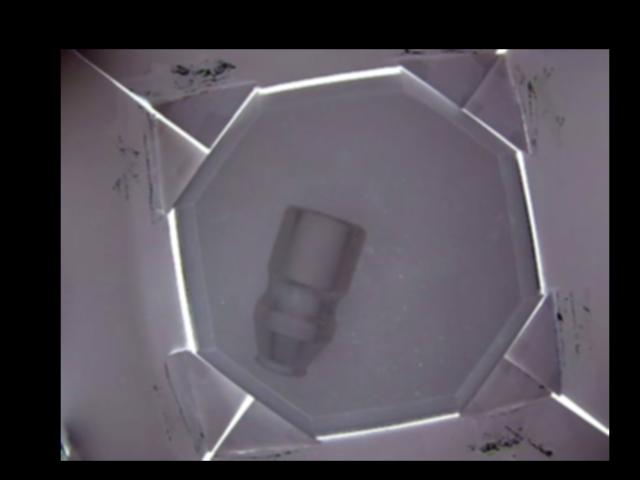Bottle: (254, 202, 365, 374)
